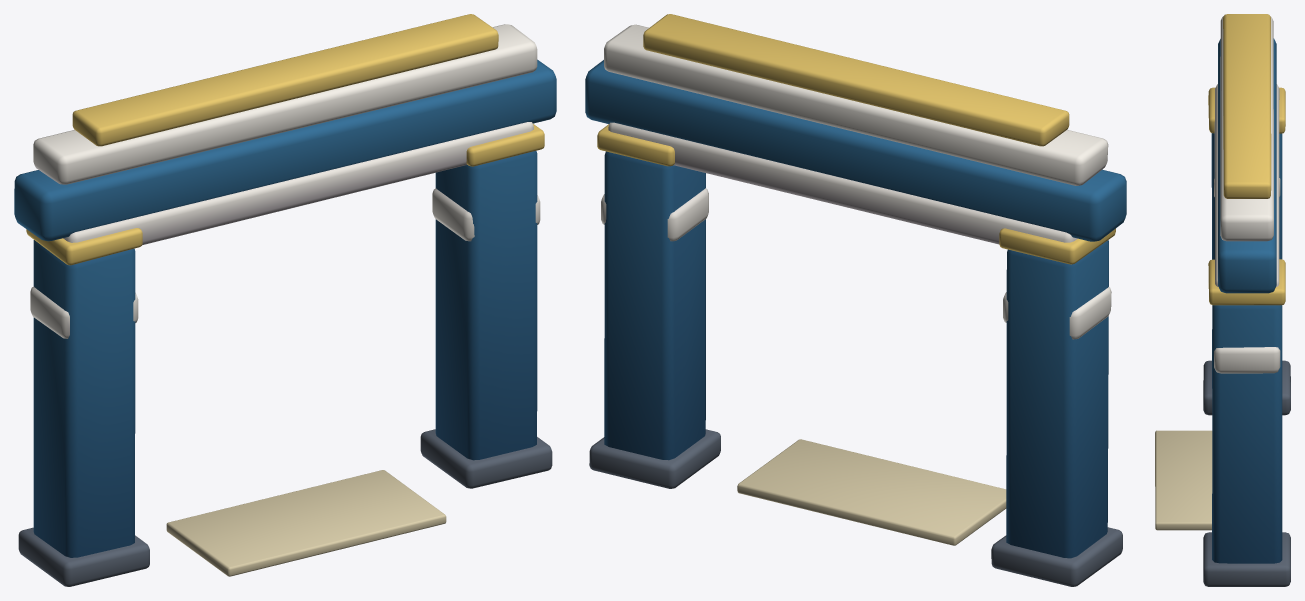
3 views of the same model, side by side, from view 1: azimuth 30°, elevation 25°; view 2: azimuth 150°, elevation 25°; view 3: azimuth 270°, elevation 25° (orthographic). The views are drawn at different scales.
Visible parts, largest first — view 1: gate_7facd363; view 2: gate_7facd363; view 3: gate_7facd363.
Part boxes in pixels (x1,y1,x2,y2): gate_7facd363: (14, 14, 556, 586); gate_7facd363: (585, 14, 1126, 586); gate_7facd363: (1155, 14, 1290, 586).
Bounding box in the file's own units: 5.67 × 4.65 × 1.48.
